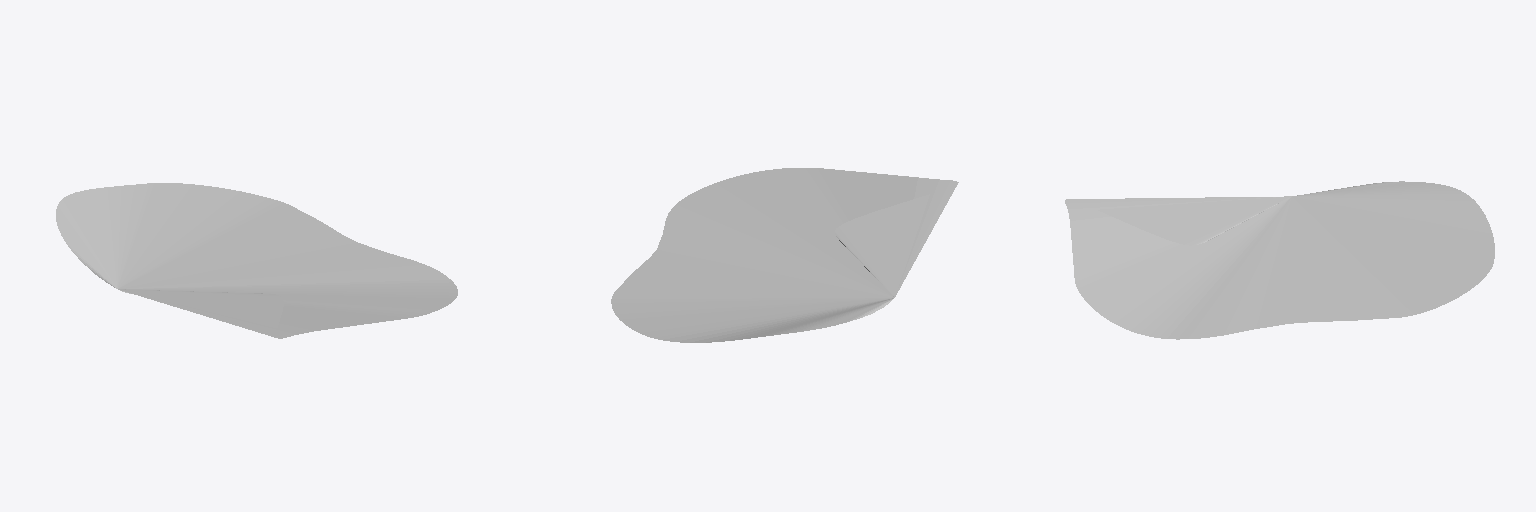
The model's file is lake1.obj.
The picture shows the model from 3 angles: view 1: azimuth 30°, elevation 25°; view 2: azimuth 150°, elevation 25°; view 3: azimuth 270°, elevation 25°; orthographic projection.
Visible parts, largest first — view 1: lake1.1; view 2: lake1.1; view 3: lake1.1.
Part boxes in pixels (x1,y1,x2,y2): lake1.1: (56, 183, 457, 338); lake1.1: (611, 168, 958, 342); lake1.1: (1065, 181, 1494, 339).
Bounding box in the file's own units: 77.04 × 8.43 × 104.